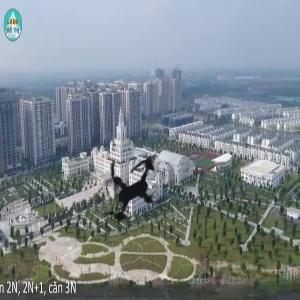drone: (63, 121, 204, 262)
